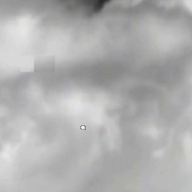Target: (79, 124, 87, 131)
